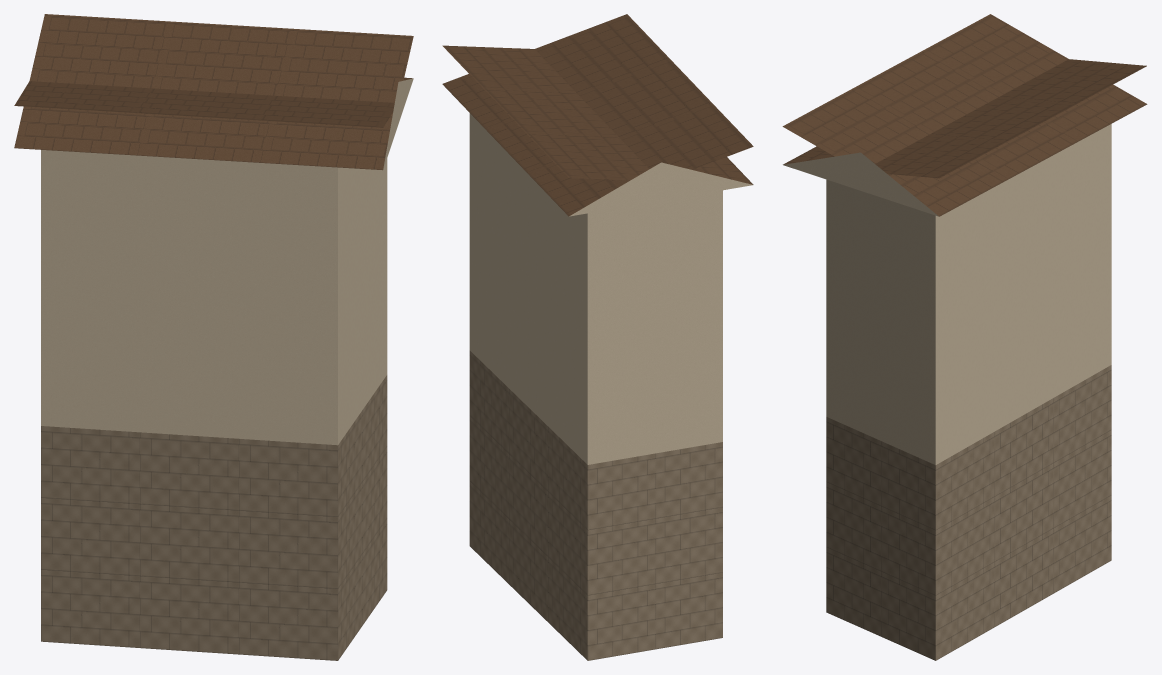
The model's file is bld_c31_-24_542.gltf.
The picture shows the model from 3 angles, left to right: view 1: azimuth 30°, elevation 25°; view 2: azimuth 150°, elevation 25°; view 3: azimuth 270°, elevation 25°; orthographic projection. The views are drawn at different scales.
Visible parts, largest first — view 1: bld_c31_-24_542; view 2: bld_c31_-24_542; view 3: bld_c31_-24_542.
Part boxes in pixels (bbox=[...]): bld_c31_-24_542: bbox=[14, 14, 413, 660]; bld_c31_-24_542: bbox=[442, 14, 753, 660]; bld_c31_-24_542: bbox=[782, 14, 1147, 660].
Size of the model in its own units: 9.19 by 12.9 by 8.63.
Materials: 4 (4 with a texture image).
